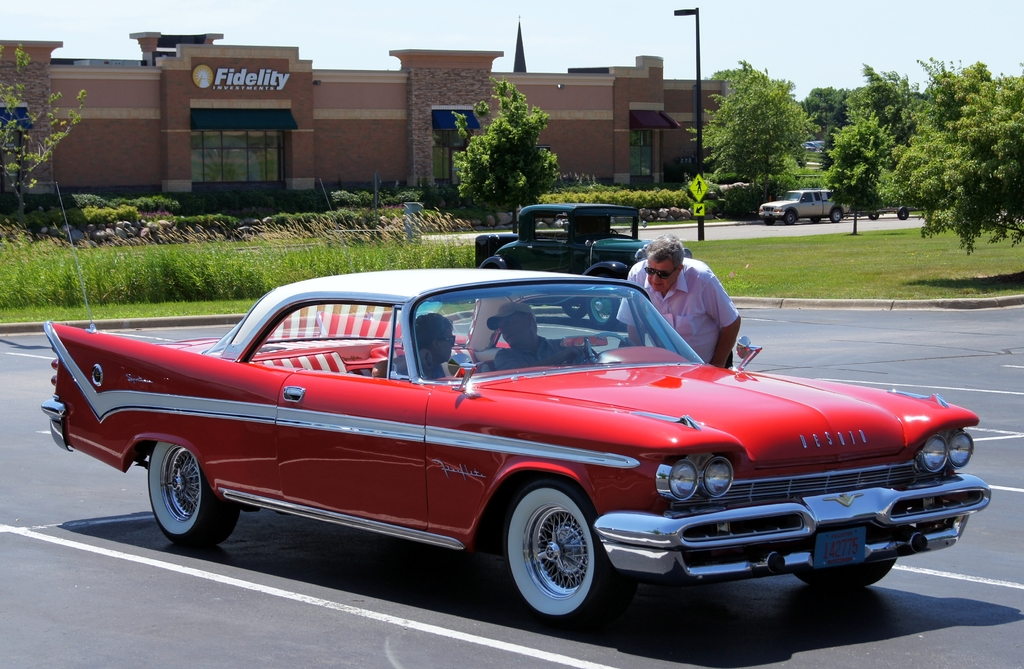mobil: (92, 269, 964, 614), (755, 188, 852, 225)
